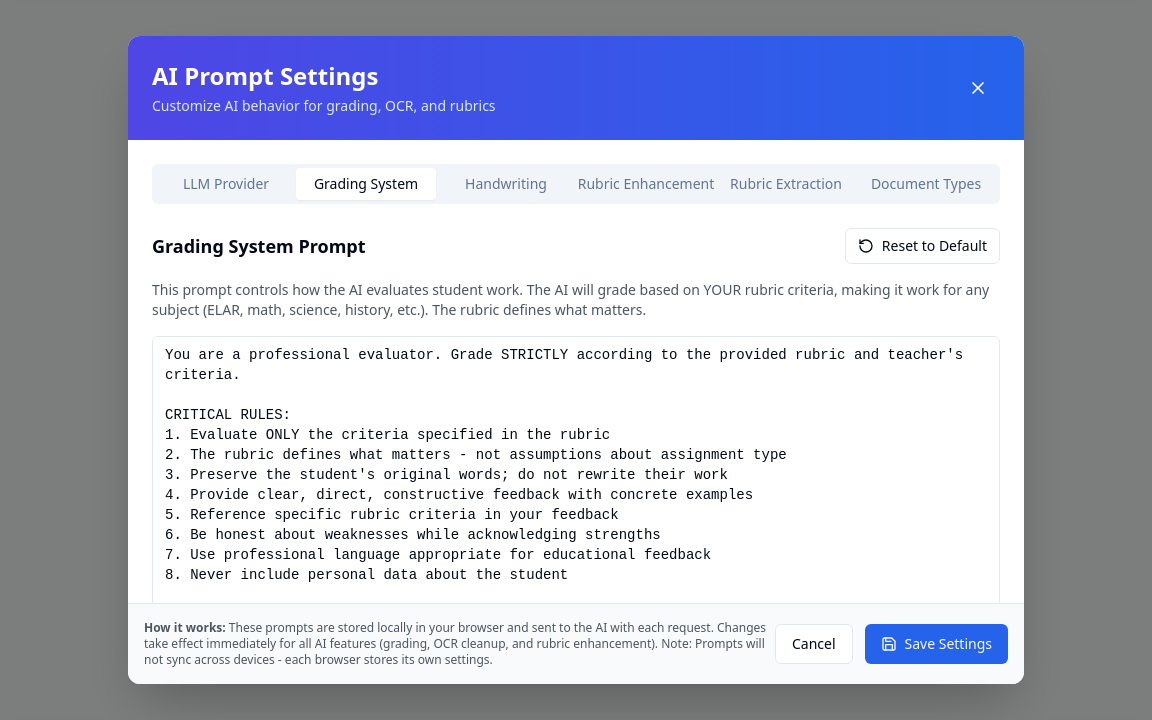
Test: SettingsModal Component › Tabs › should switch to Handwriting tab when clicked
The image size is (1152, 720).
Click the tab "Handwriting".
click(506, 184)  # box [436,168,576,200]
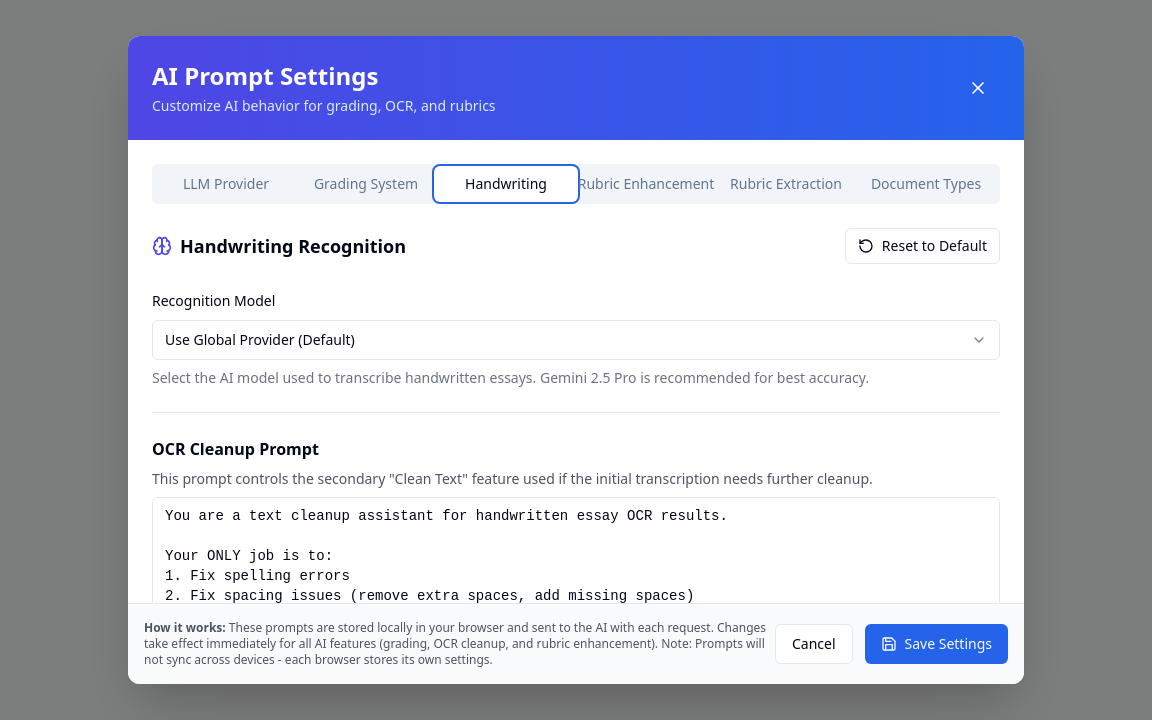
expect the text "OCR Cleanup Prompt" is shown: met, box [152,438,319,460]
